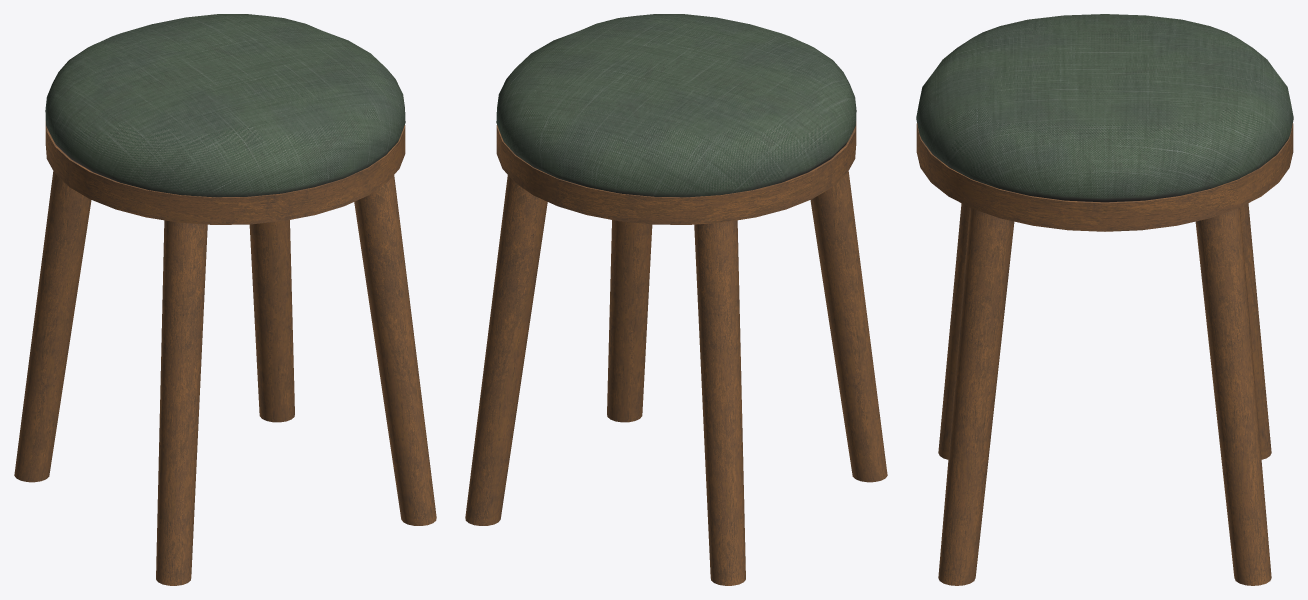
File: banco-verde.glb
3 views of the same model, side by side, from view 1: azimuth 30°, elevation 25°; view 2: azimuth 150°, elevation 25°; view 3: azimuth 270°, elevation 25° (orthographic). The views are drawn at different scales.
Visible parts, largest first — view 1: OPM0014; view 2: OPM0014; view 3: OPM0014.
Boxes of the visible parts, x1,y1,x2,y2 form: OPM0014: (14, 14, 436, 585); OPM0014: (465, 14, 887, 585); OPM0014: (916, 14, 1293, 585).
Bounding box in the file's own units: 0.3617 × 0.4747 × 0.3611.
Materials: 1 (1 with a texture image).
